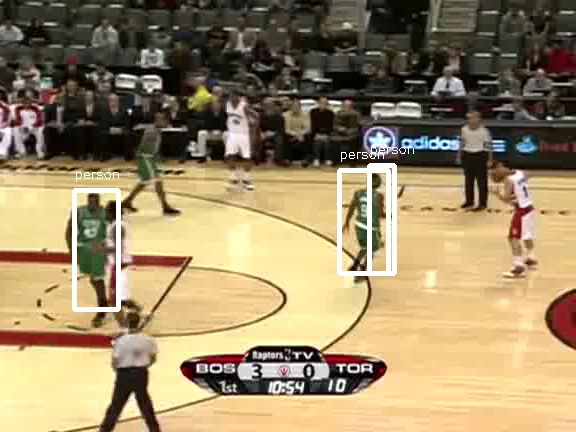person: (352, 183, 386, 264), (351, 183, 385, 264), (353, 183, 387, 264), (352, 182, 386, 263), (352, 184, 386, 265)
target_negative: (192, 85, 463, 313), (62, 103, 108, 411), (408, 216, 472, 420), (426, 373, 460, 416), (413, 167, 530, 178), (283, 339, 426, 343)
